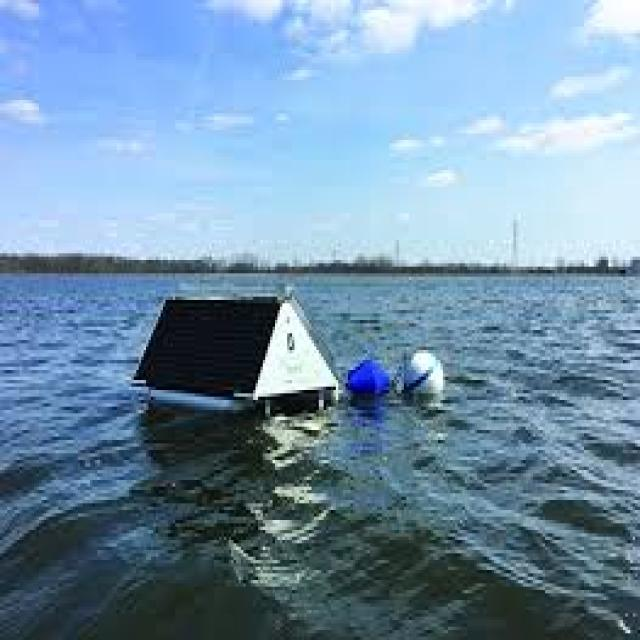Buoy: (142, 273, 459, 438)
